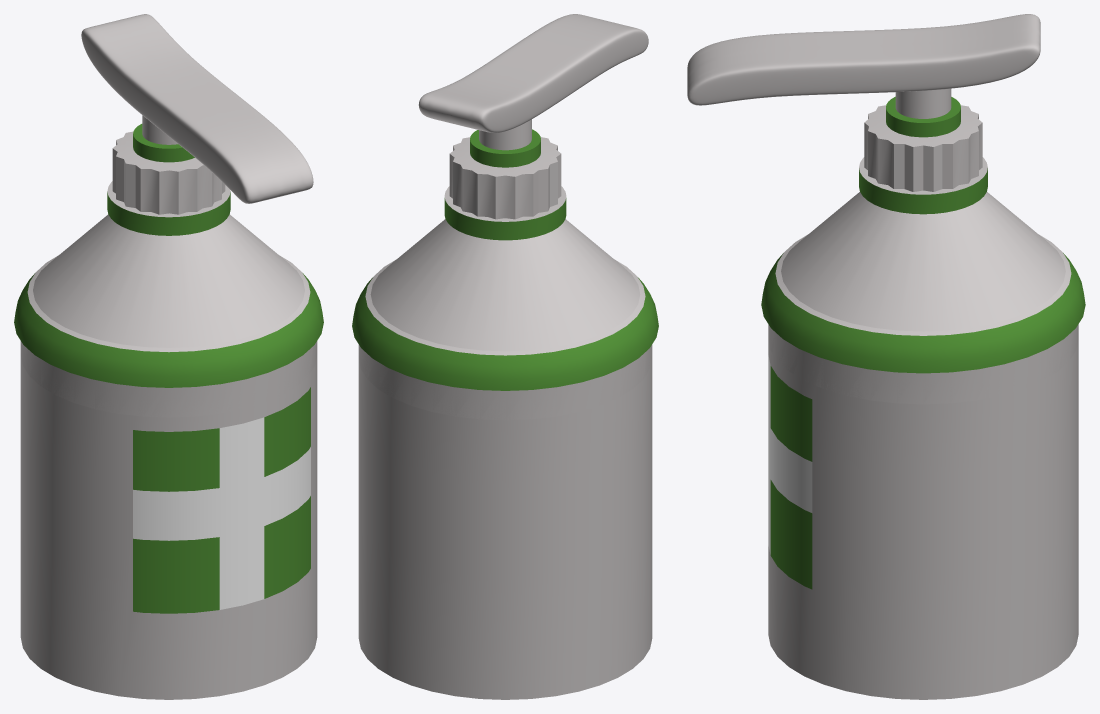
The model's file is ontsmettingmiddel.fbx.
The picture shows the model from 3 angles, left to right: view 1: azimuth 30°, elevation 25°; view 2: azimuth 150°, elevation 25°; view 3: azimuth 270°, elevation 25°; orthographic projection. The views are drawn at different scales.
Visible parts, largest first — view 1: Basis_ontsmetting_1, pompHoofdstuk, Cylinder_1; view 2: Basis_ontsmetting_1, pompHoofdstuk, Cylinder_1; view 3: Basis_ontsmetting_1, pompHoofdstuk, Cylinder_1.
Part boxes in pixels (left/top/right/bottom): Basis_ontsmetting_1: left=14, top=124, right=323, bottom=699; pompHoofdstuk: left=81, top=14, right=313, bottom=203; Cylinder_1: left=142, top=115, right=177, bottom=144; Basis_ontsmetting_1: left=352, top=129, right=658, bottom=699; pompHoofdstuk: left=418, top=14, right=648, bottom=132; Cylinder_1: left=479, top=119, right=531, bottom=150; Basis_ontsmetting_1: left=761, top=96, right=1085, bottom=699; pompHoofdstuk: left=687, top=14, right=1040, bottom=105; Cylinder_1: left=895, top=88, right=951, bottom=118.
Size of the model in its own units: 104 by 215 by 128.
